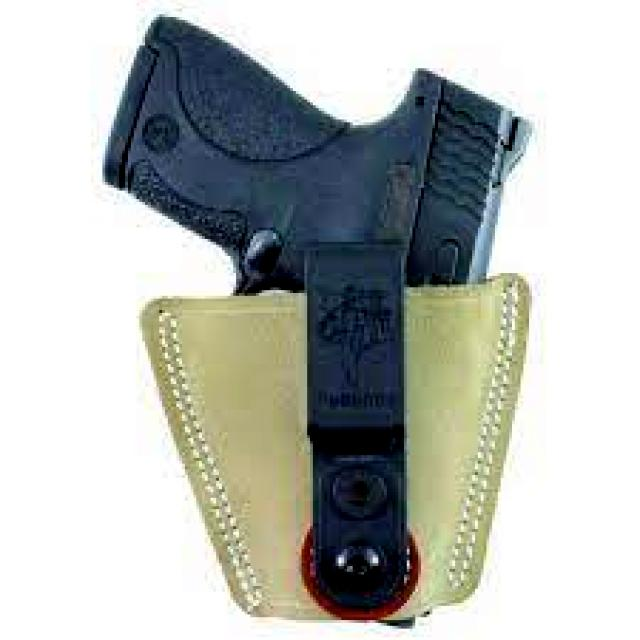semi automatic: (83, 5, 561, 632)
